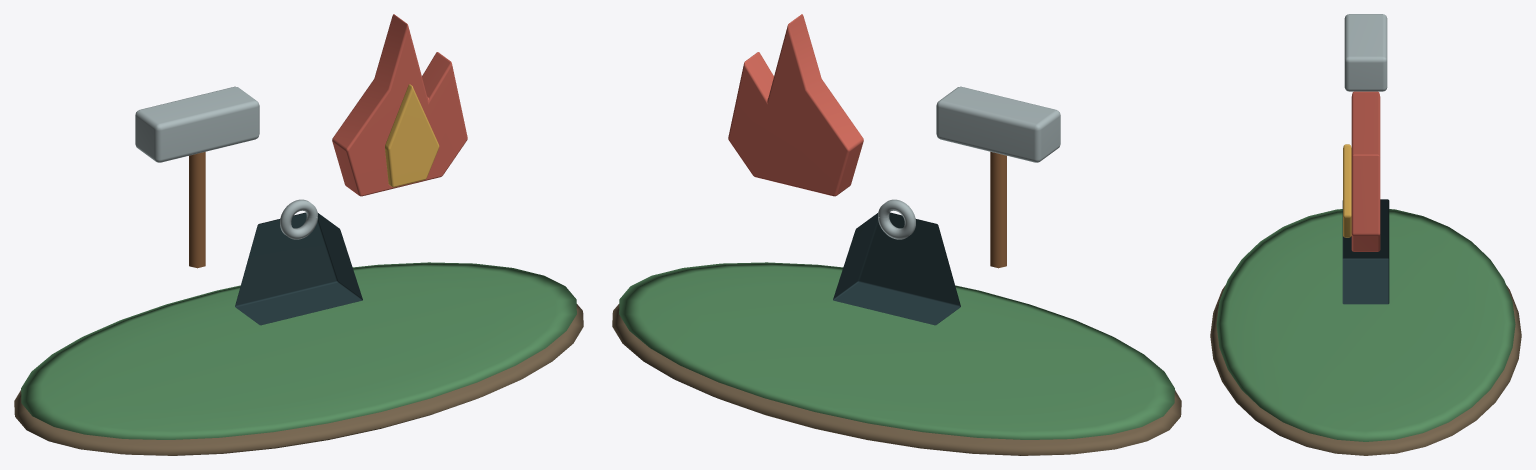
The model's file is complete-second-forge-refine.glb.
3 views of the same model, side by side, from view 1: azimuth 30°, elevation 25°; view 2: azimuth 150°, elevation 25°; view 3: azimuth 270°, elevation 25° (orthographic). The views are drawn at different scales.
Visible parts, largest first — view 1: complete-second-forge-refine_surface_01, complete-second-forge-refine_surface_04, complete-second-forge-refine_surface_00, complete-second-forge-refine_surface_06, complete-second-forge-refine_surface_03, complete-second-forge-refine_surface_05, complete-second-forge-refine_surface_02; view 2: complete-second-forge-refine_surface_01, complete-second-forge-refine_surface_04, complete-second-forge-refine_surface_00, complete-second-forge-refine_surface_06, complete-second-forge-refine_surface_03, complete-second-forge-refine_surface_02; view 3: complete-second-forge-refine_surface_01, complete-second-forge-refine_surface_00, complete-second-forge-refine_surface_04, complete-second-forge-refine_surface_03, complete-second-forge-refine_surface_06, complete-second-forge-refine_surface_05.
Boxes of the visible parts, x1,y1,x2,y2 form: complete-second-forge-refine_surface_01: (21,262,576,439); complete-second-forge-refine_surface_04: (332,14,467,196); complete-second-forge-refine_surface_00: (14,304,583,455); complete-second-forge-refine_surface_06: (235,212,362,325); complete-second-forge-refine_surface_03: (135,86,317,239); complete-second-forge-refine_surface_05: (385,84,439,187); complete-second-forge-refine_surface_02: (189,152,205,268); complete-second-forge-refine_surface_01: (619,262,1174,439); complete-second-forge-refine_surface_04: (728,14,863,196); complete-second-forge-refine_surface_00: (612,304,1181,455); complete-second-forge-refine_surface_06: (833,212,960,325); complete-second-forge-refine_surface_03: (878,86,1060,239); complete-second-forge-refine_surface_02: (990,152,1006,268); complete-second-forge-refine_surface_01: (1216,209,1515,441); complete-second-forge-refine_surface_00: (1210,285,1521,455); complete-second-forge-refine_surface_04: (1351,91,1380,251); complete-second-forge-refine_surface_03: (1344,14,1387,91); complete-second-forge-refine_surface_06: (1342,199,1389,304); complete-second-forge-refine_surface_05: (1343,144,1351,237).
Size of the model in its own units: 4.56 by 2.69 by 2.5.
